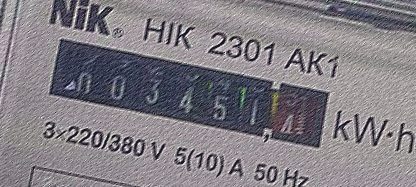0: (73, 66, 97, 96), (108, 71, 131, 102)
1: (245, 95, 266, 128)
3: (142, 74, 166, 107)
4: (175, 83, 200, 117), (276, 108, 300, 139)
5: (211, 90, 232, 123)
screen: (41, 32, 339, 157)
